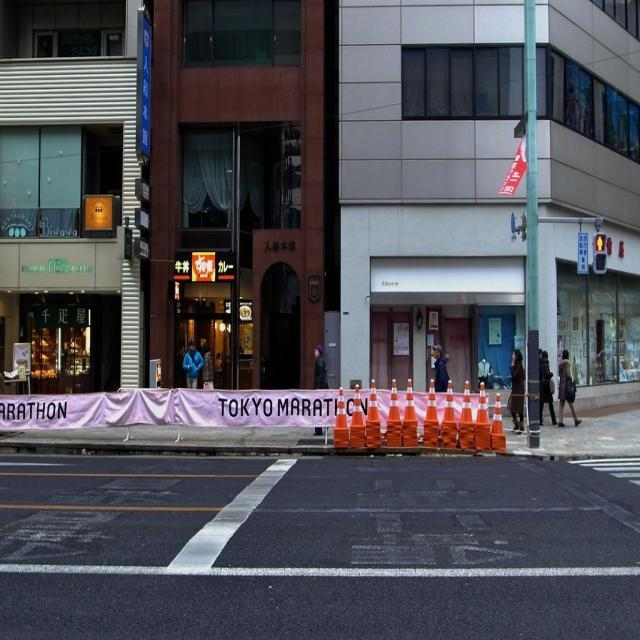traffic light: (593, 233, 607, 274)
